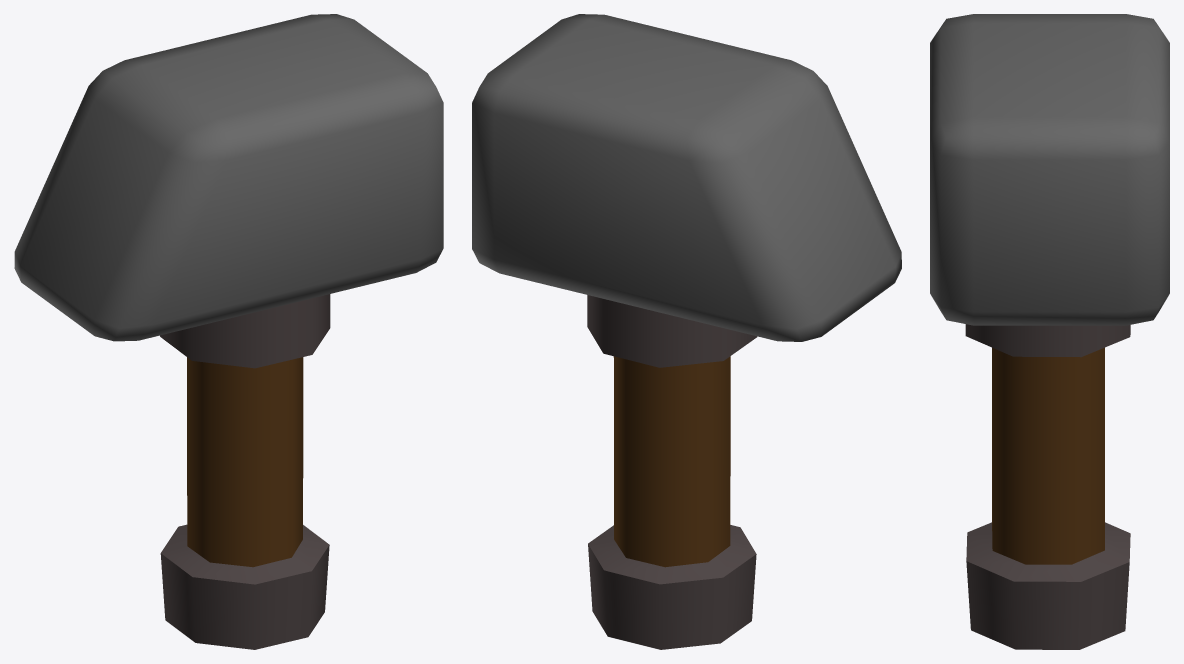
Rendered from wpn_hummer_01.fbx.
3 views of the same model, side by side, from view 1: azimuth 30°, elevation 25°; view 2: azimuth 150°, elevation 25°; view 3: azimuth 270°, elevation 25° (orthographic). The views are drawn at different scales.
Parts seen in each view (by area): view 1: wpn_hummer_01; view 2: wpn_hummer_01; view 3: wpn_hummer_01.
Part boxes in pixels (left/top/right/bottom): wpn_hummer_01: left=14, top=14, right=443, bottom=649; wpn_hummer_01: left=472, top=14, right=901, bottom=649; wpn_hummer_01: left=930, top=14, right=1169, bottom=649.
Size of the model in its own units: 56.5 by 84.97 by 32.95.
